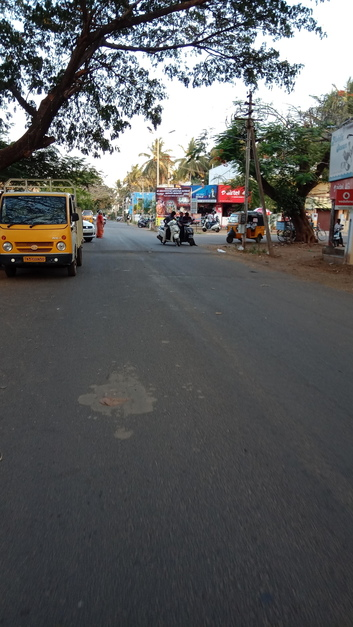bump: (85, 245, 227, 256)
